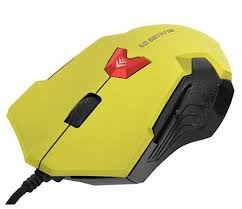mouse: (6, 10, 237, 194)
